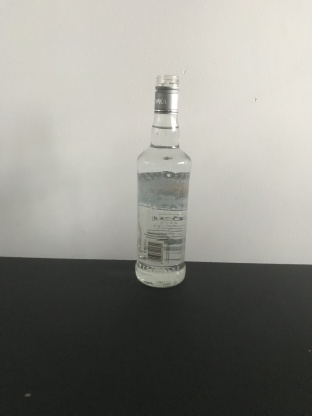nakretka: (152, 72, 180, 116)
